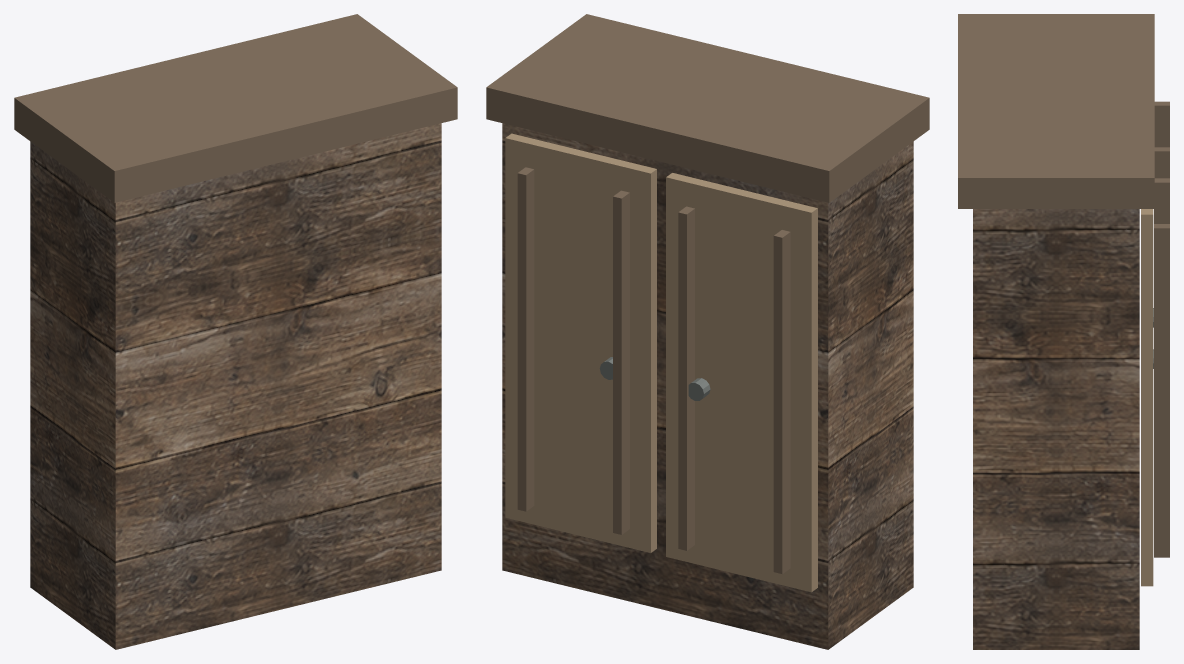
The model's file is holzschrank.glb.
3 views of the same model, side by side, from view 1: azimuth 30°, elevation 25°; view 2: azimuth 150°, elevation 25°; view 3: azimuth 270°, elevation 25° (orthographic). The views are drawn at different scales.
Parts seen in each view (by area): view 1: part_000, part_009; view 2: part_000, part_009, part_001, part_005, part_007, part_002, part_006, part_003; view 3: part_000, part_009, part_007, part_005, part_002, part_006, part_003.
Part boxes in pixels (box(x1,y1,x2,y2)): part_000: box(30, 123, 441, 649); part_009: box(14, 14, 457, 202); part_000: box(502, 123, 913, 649); part_009: box(486, 14, 929, 202); part_001: box(666, 173, 817, 592); part_005: box(505, 133, 656, 552); part_007: box(517, 167, 534, 511); part_002: box(773, 230, 790, 574); part_006: box(613, 190, 629, 534); part_003: box(678, 206, 694, 550); part_000: box(973, 209, 1139, 649); part_009: box(958, 14, 1154, 208); part_007: box(1154, 224, 1169, 557); part_005: box(1141, 209, 1153, 586); part_002: box(1154, 101, 1169, 147); part_006: box(1154, 178, 1169, 223); part_003: box(1154, 147, 1169, 178).
Size of the model in its own units: 1.58 by 2.14 by 0.8625.
Materials: 1 (1 with a texture image).
